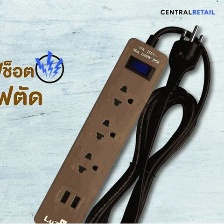three_eye_plug: (30, 36, 172, 224)
